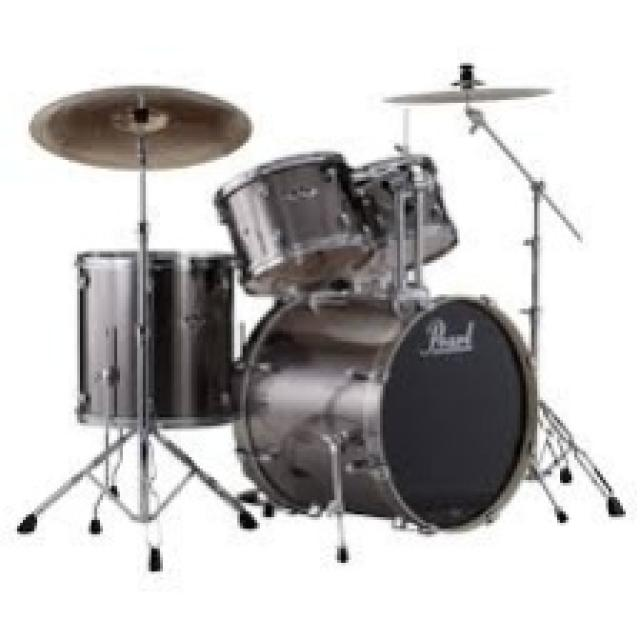drums: (20, 70, 625, 564)
